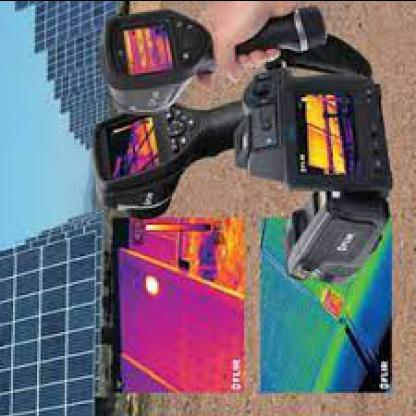Defects: (136, 266, 166, 298), (322, 288, 344, 316)
